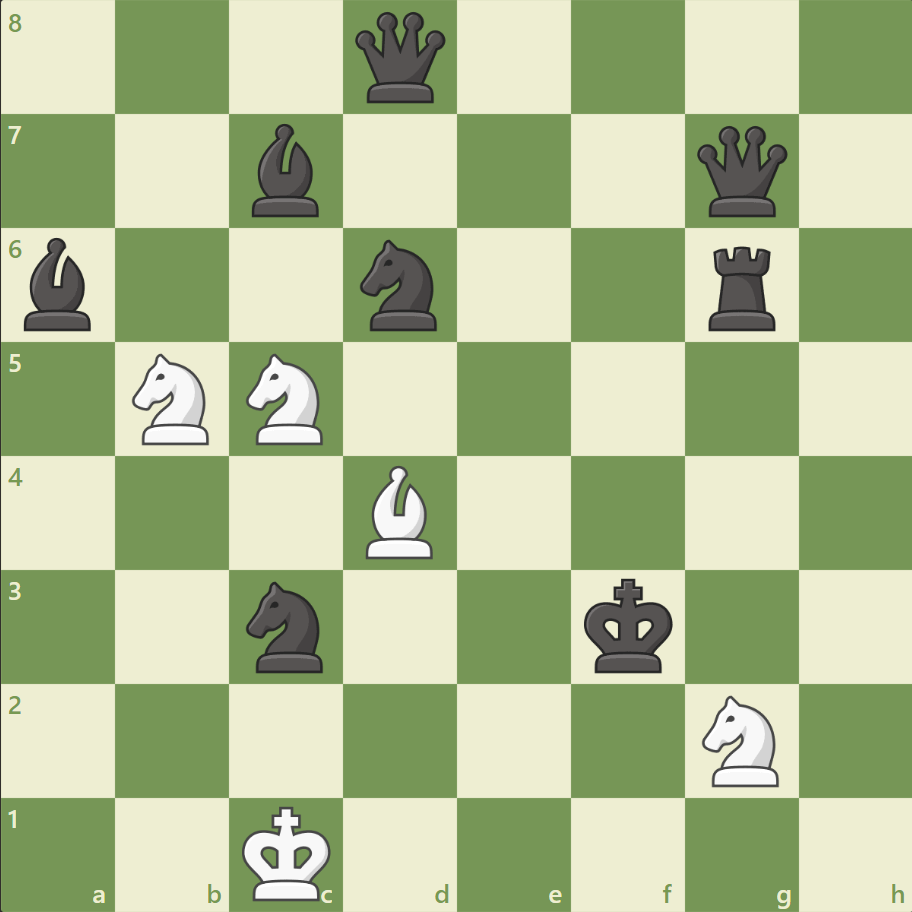B: (358, 460, 442, 563)
K: (238, 798, 338, 906)
N: (124, 348, 222, 450), (692, 688, 789, 791), (238, 348, 335, 450)
b: (17, 233, 101, 336), (244, 120, 328, 222)
k: (579, 571, 679, 679)
n: (351, 234, 449, 337), (238, 575, 335, 677)
q: (691, 122, 790, 222), (351, 9, 450, 108)
r: (700, 239, 783, 336)
